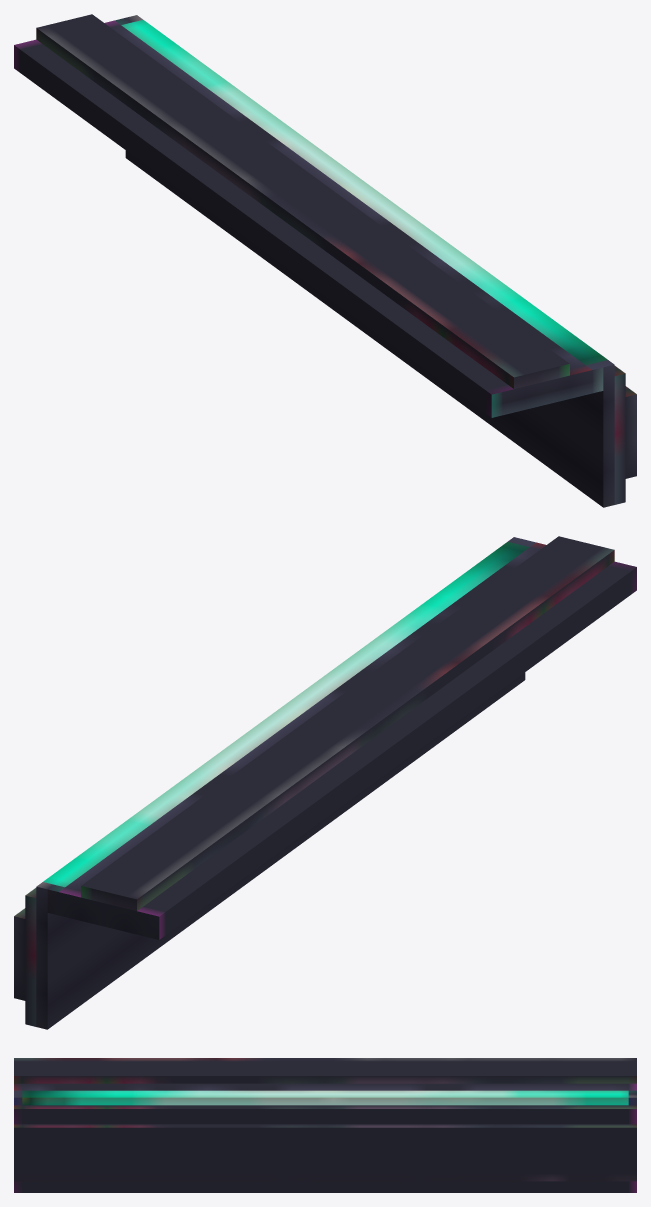
File: Neon_Angle_00.fbx
3 views of the same model, one above another, from view 1: azimuth 30°, elevation 25°; view 2: azimuth 150°, elevation 25°; view 3: azimuth 270°, elevation 25° (orthographic). The views are drawn at different scales.
Visible parts, largest first — view 1: Neon_Angle_00; view 2: Neon_Angle_00; view 3: Neon_Angle_00.
Boxes of the visible parts, box(x1,y1,x2,y2) form: Neon_Angle_00: box(14, 14, 636, 507); Neon_Angle_00: box(14, 536, 636, 1029); Neon_Angle_00: box(14, 1058, 636, 1192).
Bounding box in the file's own units: 65 × 65 × 370.
